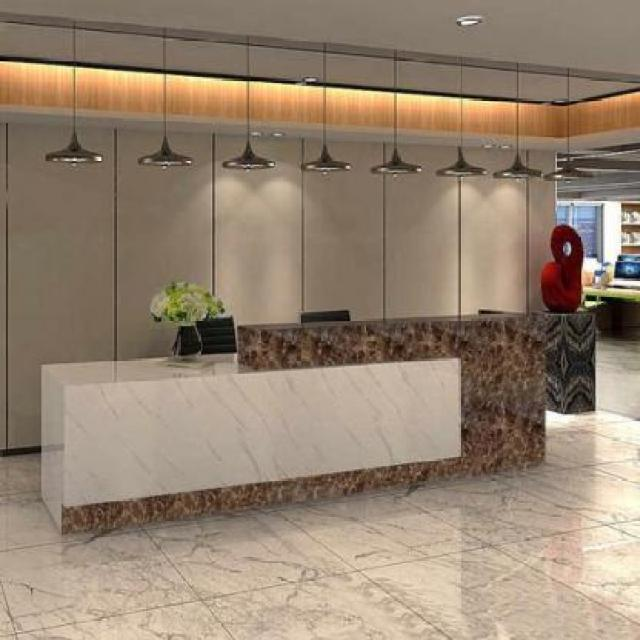frontdesk: (34, 309, 559, 544)
